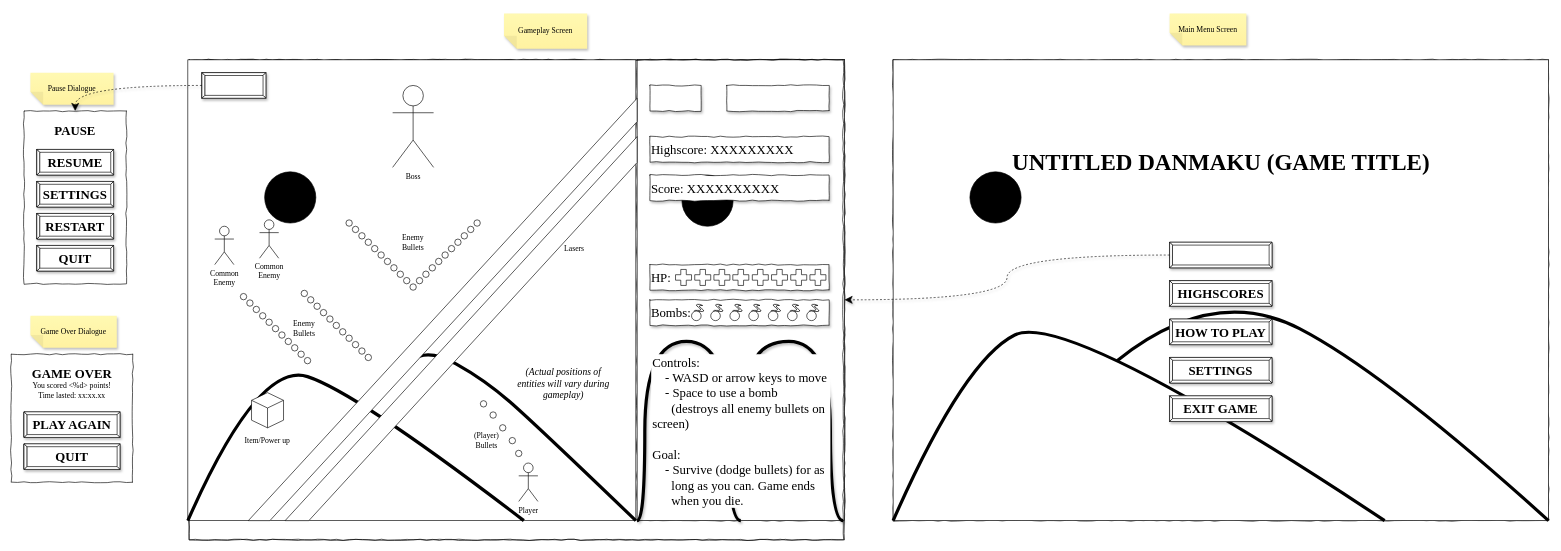
The diagram is 1561 pixels wide and 551 high, and some of its shapes have lost their labels. The shapes that lost their labels are listed below. From the top down, each one's centre as x and y in pixels, then its label:
At (x=234, y=86): "(Pause)".
At (x=676, y=99): "MM:SS".
At (x=778, y=99): "Wave <Wave No.>".
At (x=1221, y=255): "START GAME".
